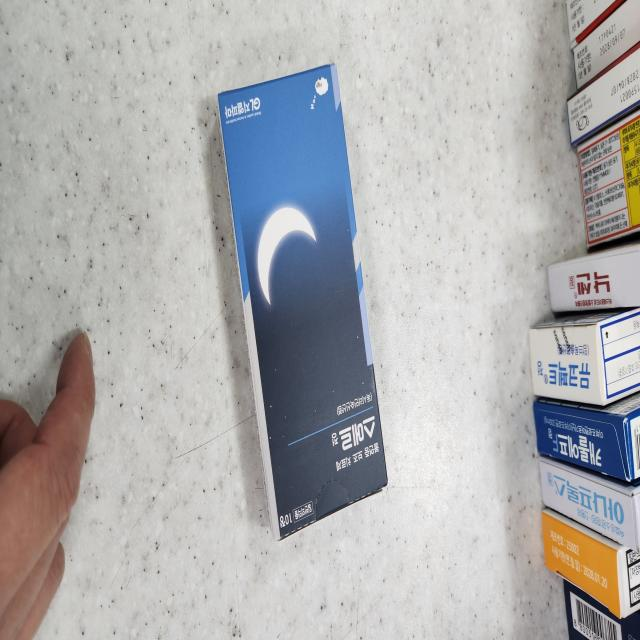box: (219, 63, 385, 536), (547, 236, 640, 313)
